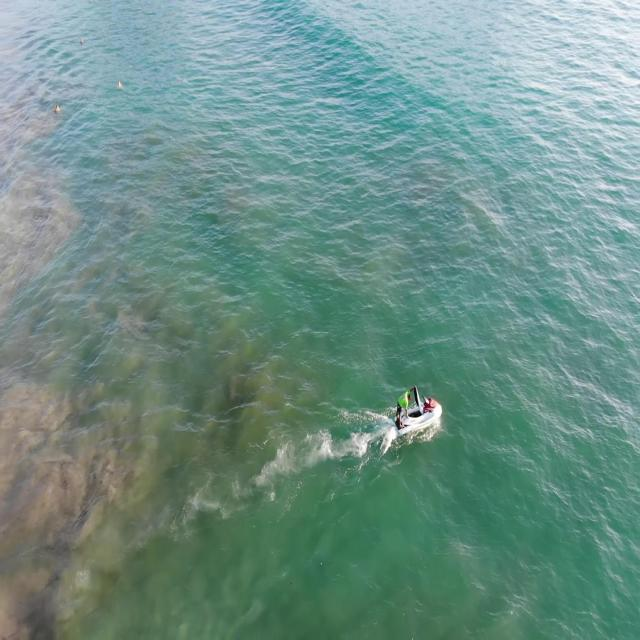boat: (389, 382, 445, 444)
